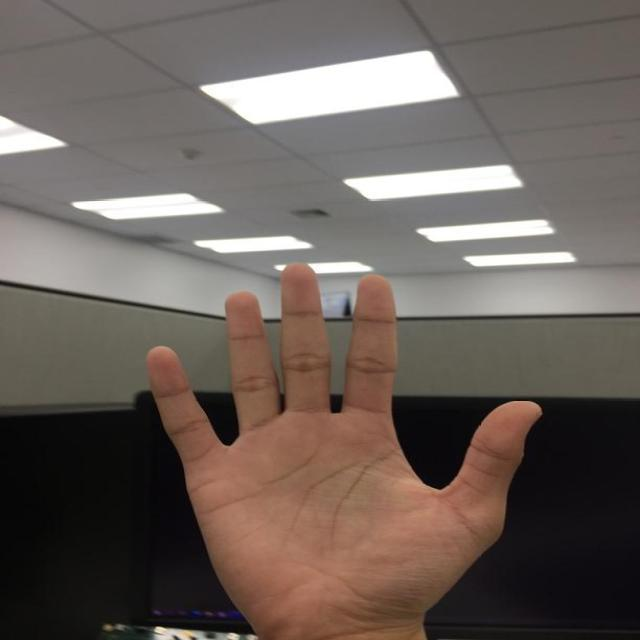hand: (139, 259, 546, 640)
